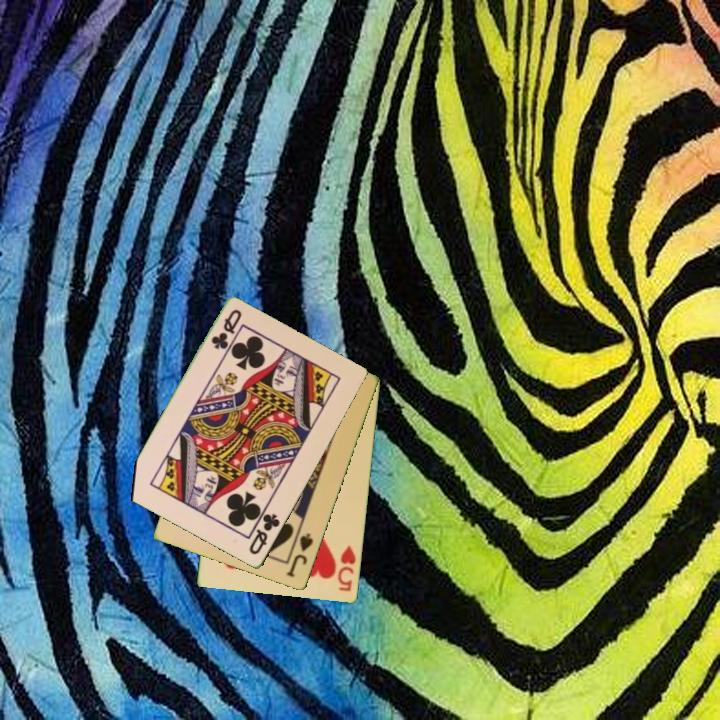5h: (334, 542, 359, 594)
Js: (283, 530, 316, 580)
Qc: (245, 510, 283, 558), (208, 306, 245, 353)
